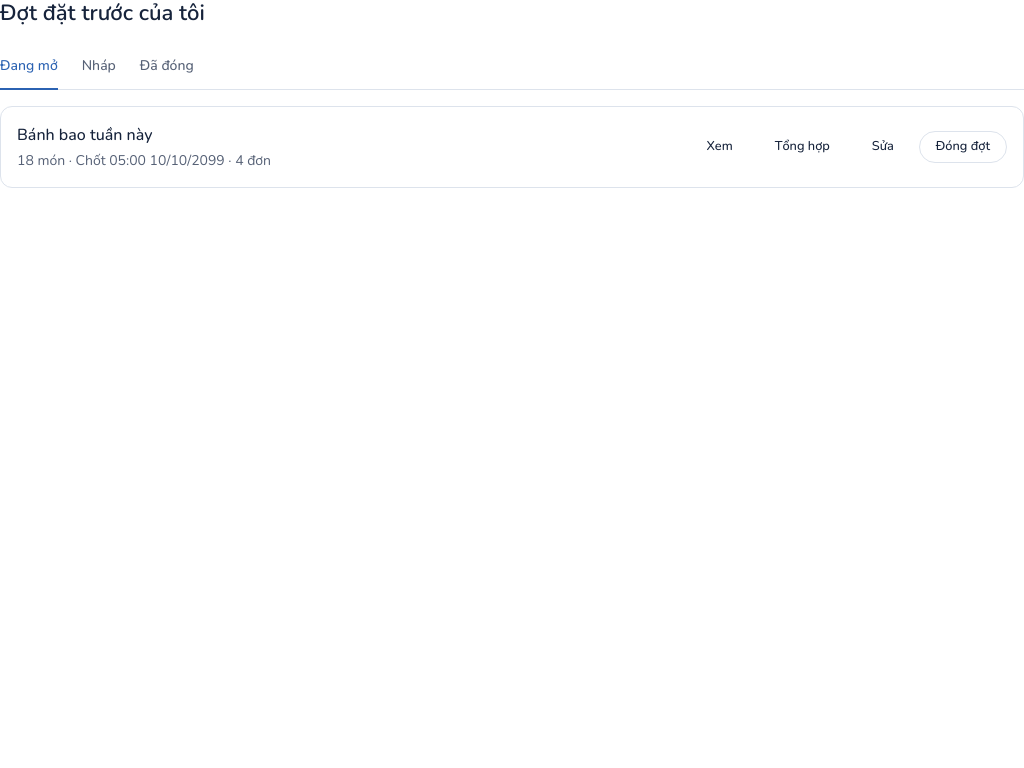
Test case: MyCampaigns › does nothing when closing is declined
Click the button "Đóng đợt": (963, 146) top-left (919, 130), bottom-right (1007, 162)
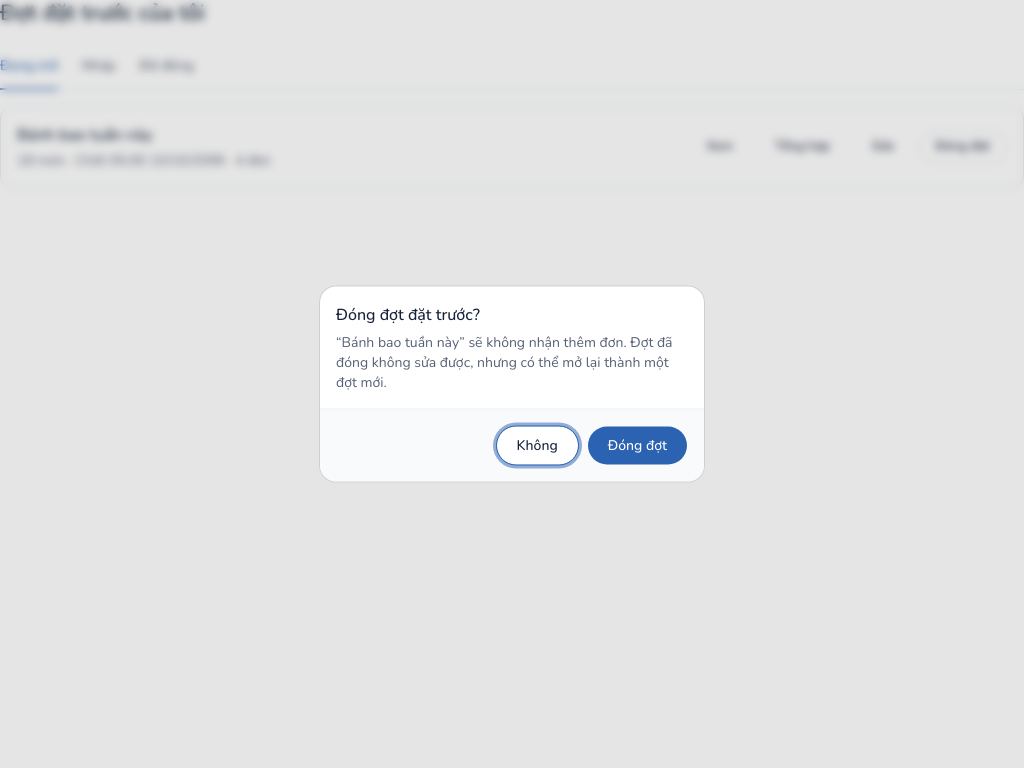
Click the button "Không": (537, 446) top-left (496, 426), bottom-right (579, 466)
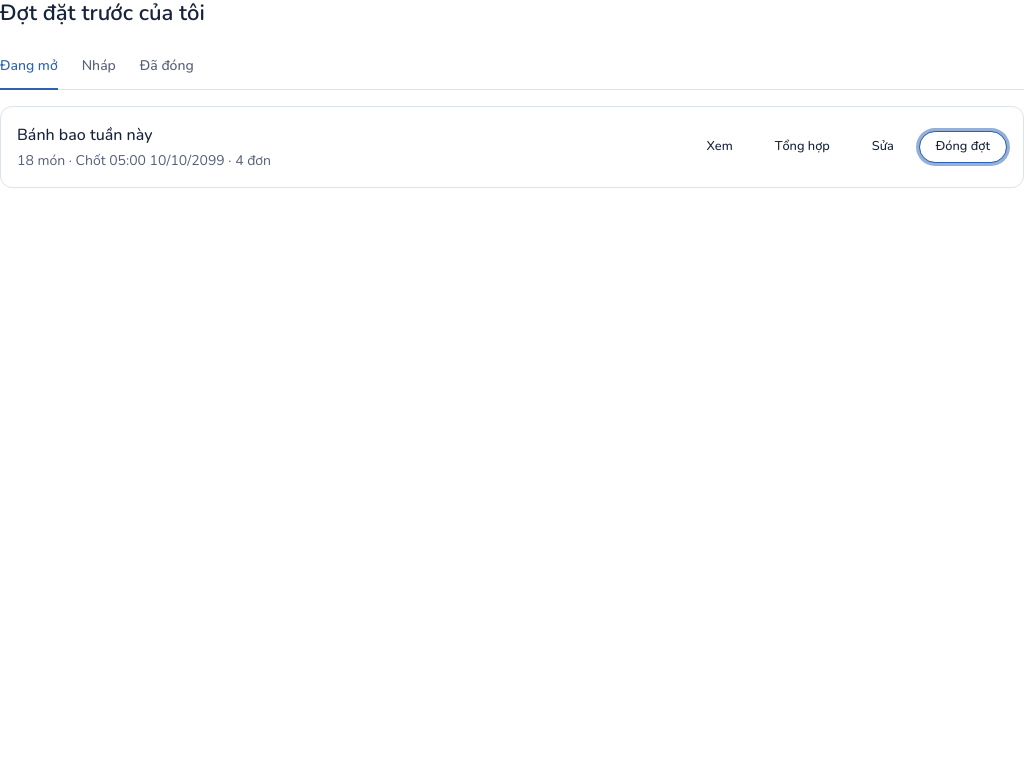
Expected: the dialog is gone
